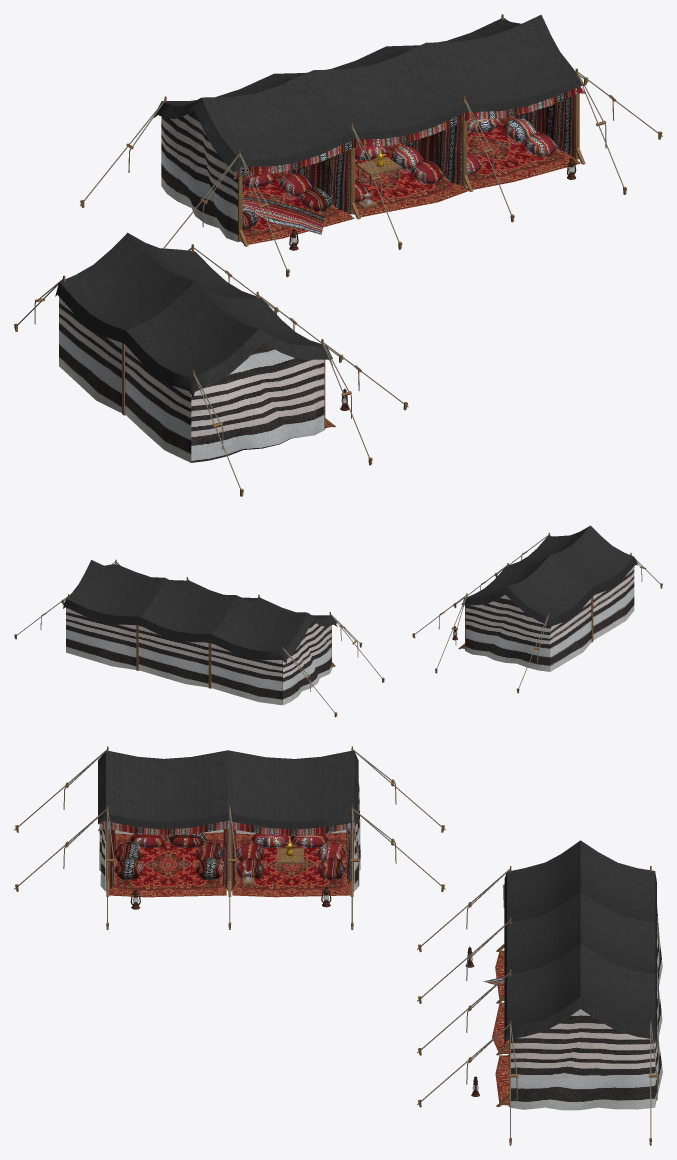
File: tent.fbx
3 views of the same model, one above another, from view 1: azimuth 30°, elevation 25°; view 2: azimuth 150°, elevation 25°; view 3: azimuth 270°, elevation 25° (orthographic). The views are drawn at different scales.
Parts seen in each view (by area): view 1: polySurface36, polySurface22, polySurface25, polySurface37, polySurface38, pPlane3, pPlane4, pPlane5, pPlane9; view 2: polySurface36, polySurface38, polySurface22, polySurface25; view 3: polySurface36, polySurface22, polySurface38, pPlane8, pPlane6, polySurface33, polySurface25, pCube58.
Boxes of the visible parts, x1=… form: polySurface36: x1=153, y1=14, x2=583, y2=172; polySurface22: x1=55, y1=232, x2=332, y2=397; polySurface25: x1=59, y1=297, x2=324, y2=462; polySurface37: x1=234, y1=86, x2=585, y2=214; polySurface38: x1=161, y1=110, x2=237, y2=241; pPlane3: x1=467, y1=116, x2=580, y2=189; pPlane4: x1=354, y1=143, x2=468, y2=217; pPlane5: x1=241, y1=171, x2=354, y2=244; pPlane9: x1=242, y1=197, x2=325, y2=234; polySurface36: x1=63, y1=560, x2=336, y2=663; polySurface38: x1=66, y1=607, x2=331, y2=705; polySurface22: x1=461, y1=525, x2=637, y2=629; polySurface25: x1=465, y1=566, x2=634, y2=671; polySurface36: x1=504, y1=840, x2=656, y2=1043; polySurface22: x1=98, y1=750, x2=358, y2=829; polySurface38: x1=511, y1=905, x2=662, y2=1110; pPlane8: x1=109, y1=832, x2=226, y2=897; pPlane6: x1=232, y1=832, x2=350, y2=897; polySurface33: x1=98, y1=821, x2=358, y2=890; polySurface25: x1=99, y1=783, x2=360, y2=890; pCube58: x1=105, y1=829, x2=354, y2=896.
Size of the model in its own units: 101 by 16.52 by 86.66.
